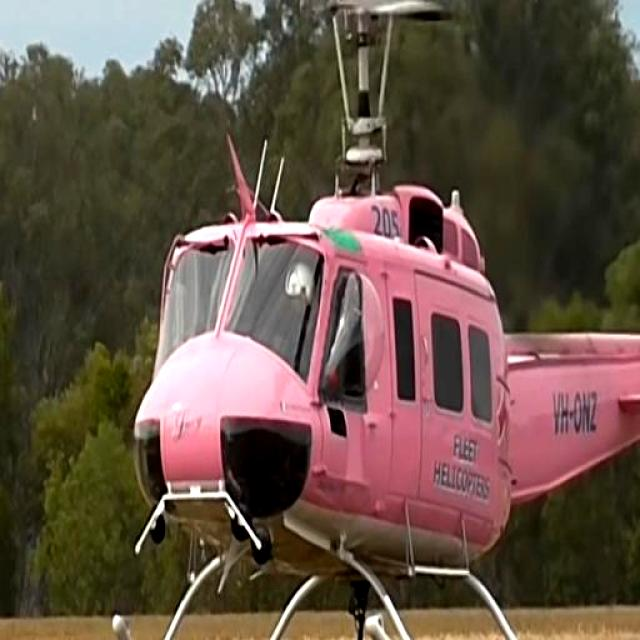drone: (109, 0, 640, 640)
